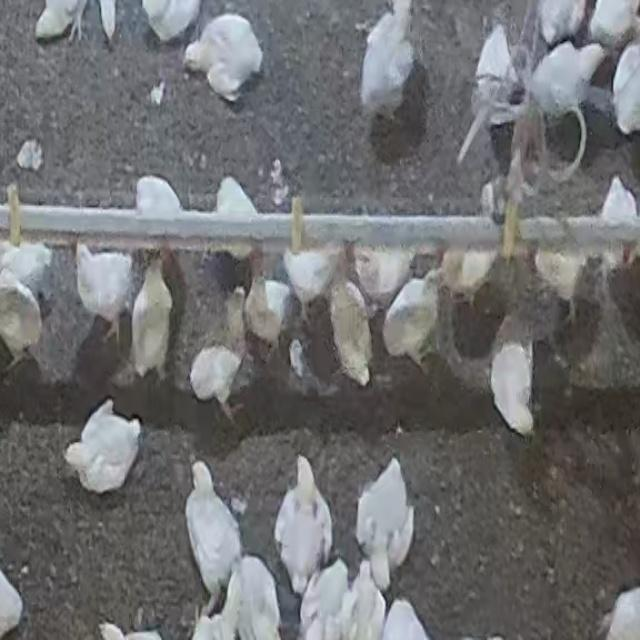chicken: (352, 0, 424, 122), (354, 449, 418, 586), (184, 462, 243, 609), (274, 454, 334, 596), (181, 7, 265, 103), (64, 397, 141, 494), (522, 36, 606, 118), (74, 242, 137, 344), (380, 273, 440, 376), (130, 258, 174, 384), (281, 234, 338, 320), (489, 336, 536, 439), (244, 268, 292, 367), (296, 559, 354, 640), (228, 555, 282, 640), (188, 344, 244, 424), (352, 246, 416, 310), (214, 176, 260, 264), (598, 173, 639, 270), (532, 246, 588, 315), (438, 247, 496, 309)
